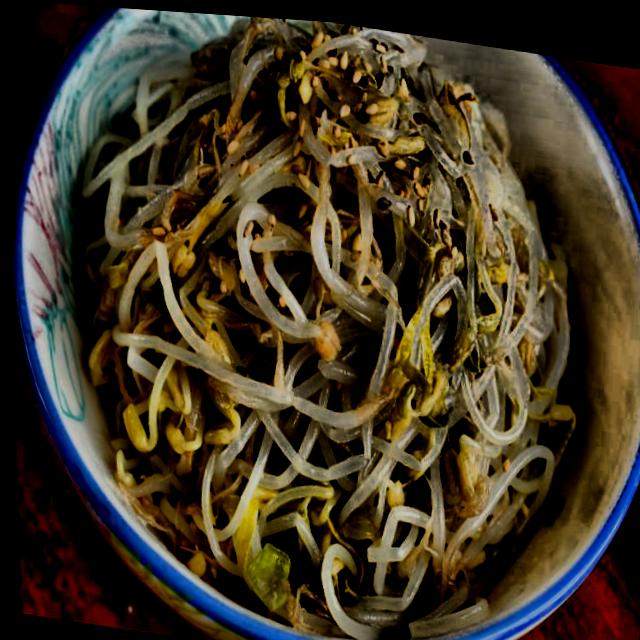Food: (40, 2, 609, 640)
